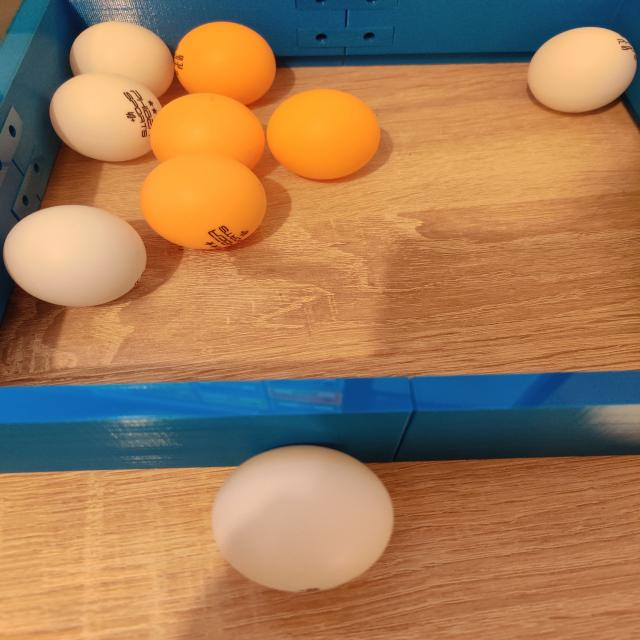orange: (141, 154, 266, 252), (267, 87, 383, 183), (152, 90, 266, 180), (174, 21, 277, 106)
white: (210, 442, 398, 593), (3, 205, 148, 310), (524, 24, 637, 116), (48, 73, 162, 164), (70, 20, 176, 104)
